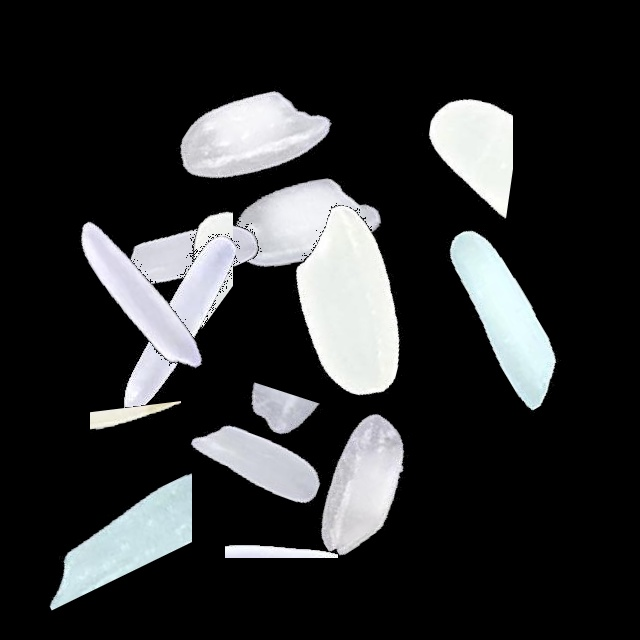Broken: (115, 423, 365, 582), (43, 370, 192, 620), (386, 39, 513, 289), (225, 376, 338, 626), (120, 142, 233, 392), (222, 319, 328, 569), (90, 327, 181, 577)
Full: (234, 357, 484, 607), (179, 95, 429, 345), (228, 174, 478, 424), (380, 190, 630, 440), (57, 133, 307, 383), (56, 198, 306, 448), (125, 16, 375, 266), (13, 173, 263, 423)
